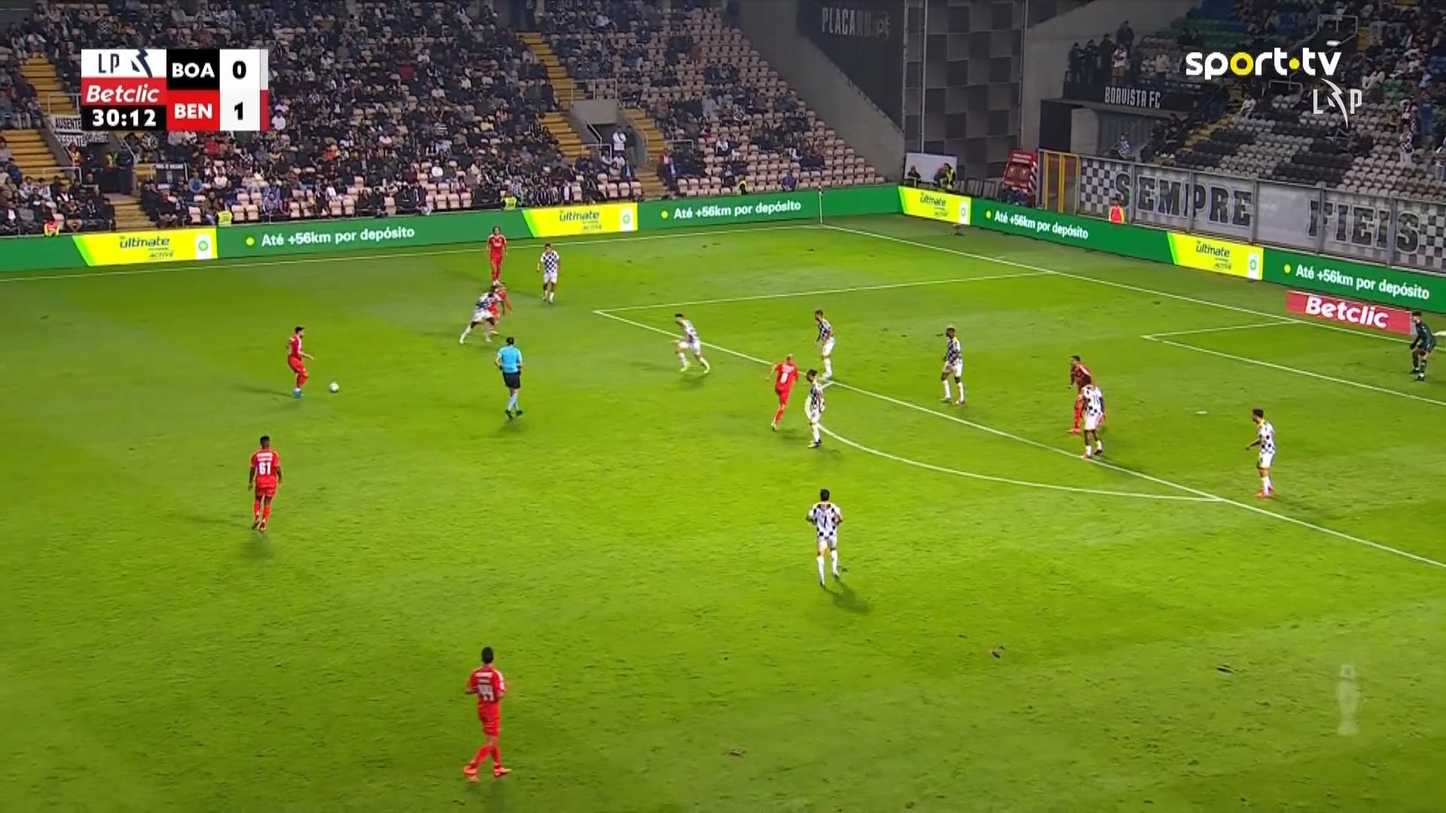ball: (328, 381, 339, 392)
goalkeeper: (1408, 309, 1435, 381)
player: (462, 645, 511, 781), (805, 488, 843, 588), (246, 434, 282, 532), (458, 280, 510, 344), (1245, 407, 1276, 497), (765, 353, 798, 431), (1075, 379, 1106, 458), (673, 312, 710, 373), (938, 326, 966, 405), (285, 325, 313, 397), (1066, 354, 1091, 434), (804, 368, 825, 447), (813, 309, 835, 380), (535, 242, 560, 303), (485, 224, 508, 286), (490, 279, 511, 315)
referee: (493, 335, 524, 419)
